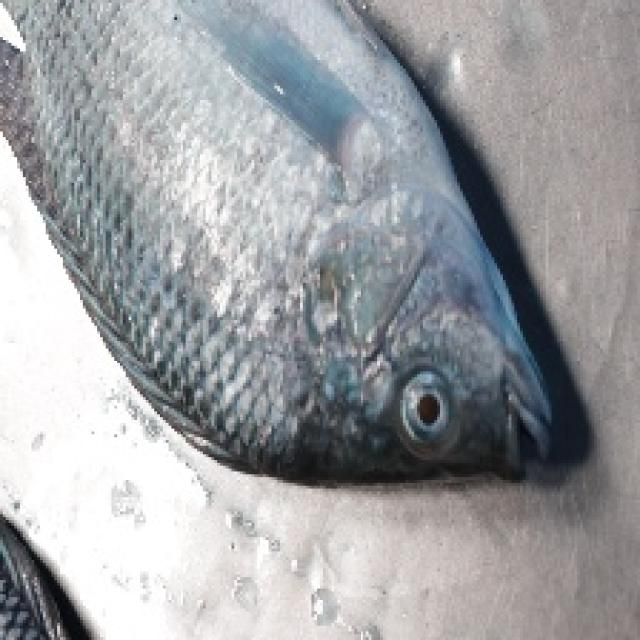Fresh: (74, 80, 614, 488)
